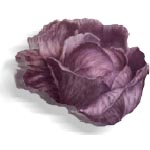cabbage: (13, 17, 149, 129)
